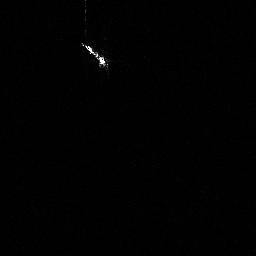ship: (76, 40, 111, 73)
